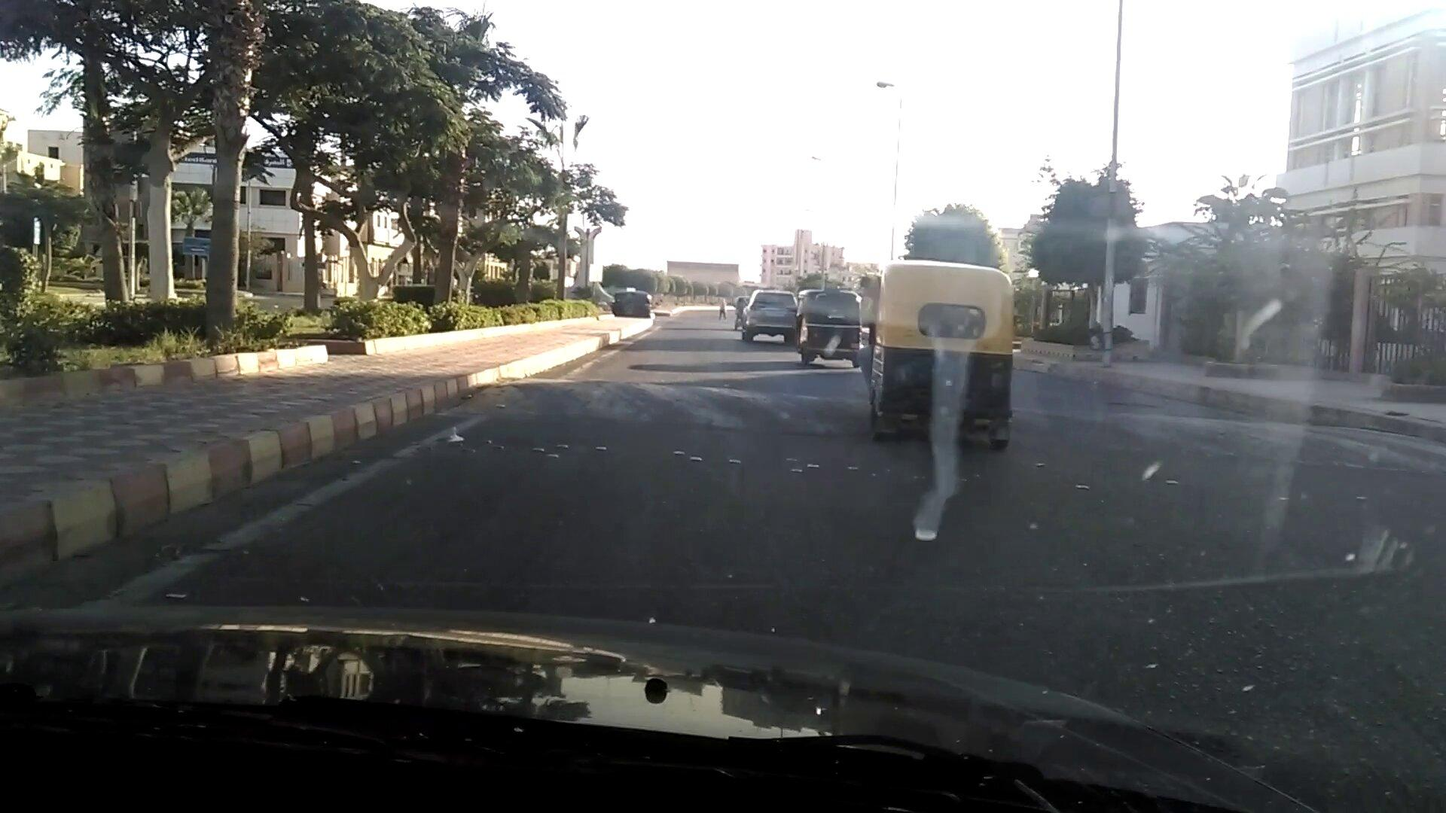Bump: (447, 375, 1445, 471)
